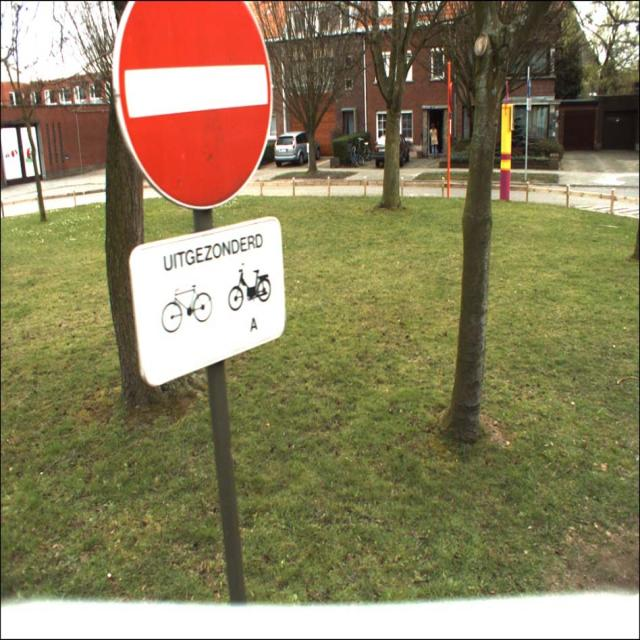girisyok: (114, 1, 273, 209)
